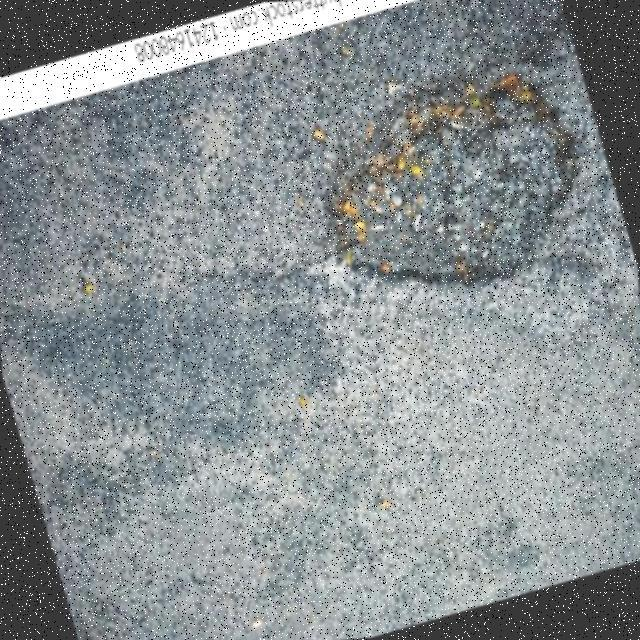Pothole: (329, 72, 570, 286)
